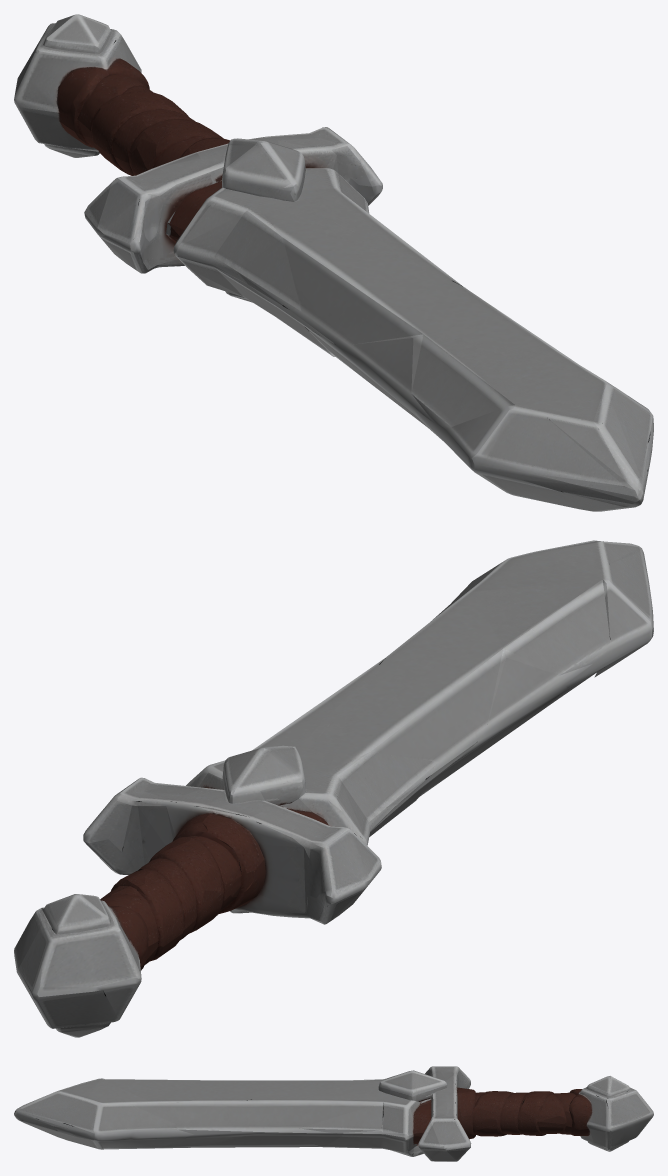
3 views of the same model, one above another, from view 1: azimuth 30°, elevation 25°; view 2: azimuth 150°, elevation 25°; view 3: azimuth 270°, elevation 25° (orthographic). The views are drawn at different scales.
Visible parts, largest first — view 1: gs_g1; view 2: gs_g1; view 3: gs_g1.
Part boxes in pixels (box(x1,y1,x2,y2)): gs_g1: box(14, 14, 653, 511); gs_g1: box(14, 540, 653, 1037); gs_g1: box(14, 1066, 653, 1161).
Bounding box in the file's own units: 141 × 80.86 × 550.
Materials: 1 (1 with a texture image).
